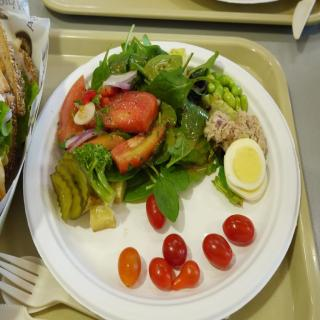tomato: (221, 217, 255, 252), (202, 234, 232, 269), (116, 246, 142, 286), (172, 257, 200, 291), (162, 232, 187, 268), (148, 256, 173, 290), (146, 195, 168, 227)
